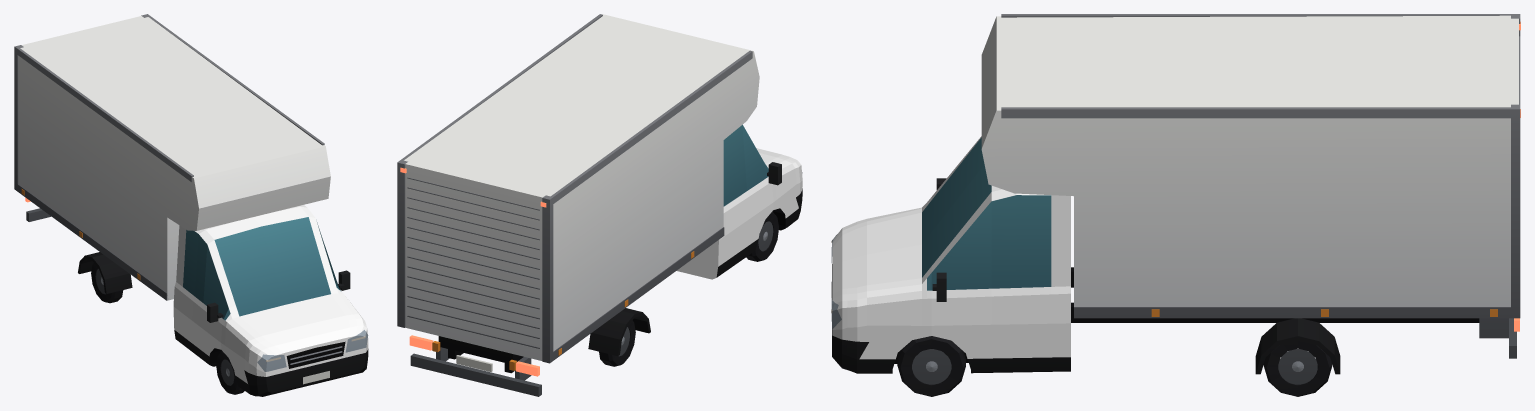
The model's file is BoxVan.fbx.
3 views of the same model, side by side, from view 1: azimuth 30°, elevation 25°; view 2: azimuth 150°, elevation 25°; view 3: azimuth 270°, elevation 25° (orthographic). The views are drawn at different scales.
Visible parts, largest first — view 1: body, wheel-front-right, wheel-back-right; view 2: body, wheel-front-right, wheel-back-right; view 3: body, wheel-front-left, wheel-back-left.
Boxes of the visible parts, bbox=[...] form: body: bbox=[14, 14, 368, 396]; wheel-front-right: bbox=[216, 351, 244, 394]; wheel-back-right: bbox=[91, 263, 123, 303]; body: bbox=[397, 14, 802, 396]; wheel-front-right: bbox=[746, 211, 778, 261]; wheel-back-right: bbox=[599, 320, 635, 366]; body: bbox=[831, 14, 1520, 374]; wheel-front-left: bbox=[897, 336, 965, 396]; wheel-back-left: bbox=[1263, 340, 1332, 396].
Bounding box in the file's own units: 2.38 × 3.3 × 6.93.
Materials: 4 (1 with a texture image).
